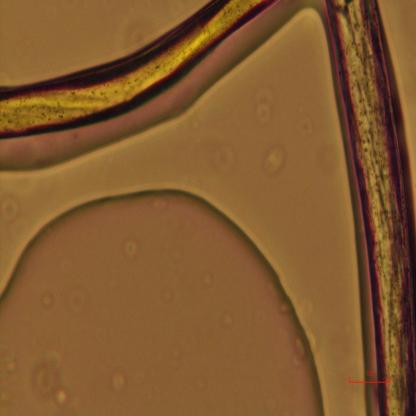Air bubble: (0, 181, 329, 415)
Background material: (205, 134, 240, 175), (254, 86, 274, 134), (262, 145, 288, 181), (294, 106, 316, 143)
Microfibre: (0, 0, 275, 139), (324, 0, 416, 414)
